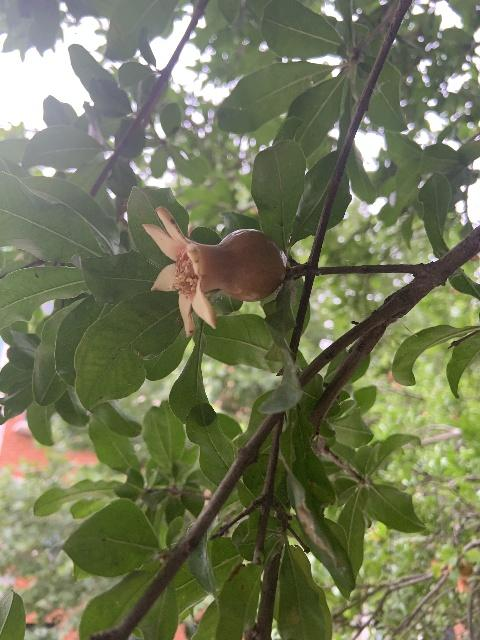early-fruit: (143, 205, 284, 336)
flower: (453, 622, 467, 639)
